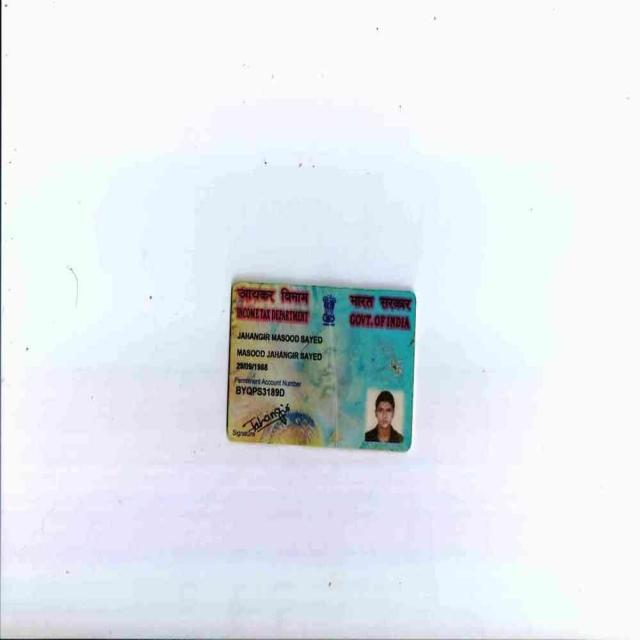pan_card: (226, 283, 415, 452)
